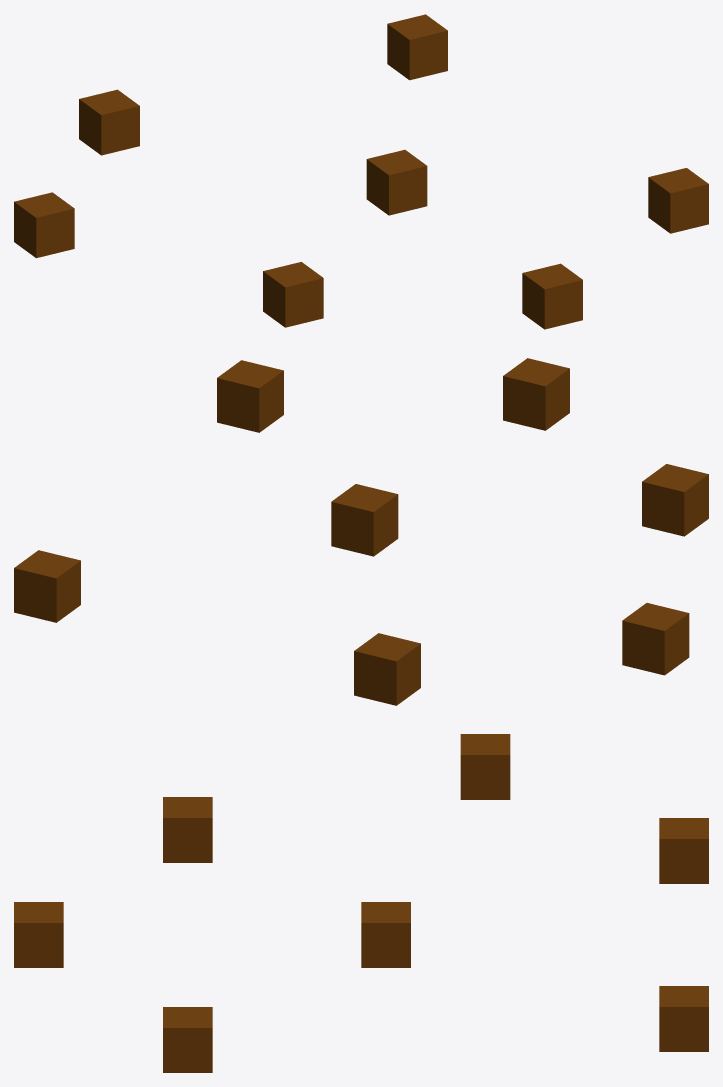
The model's file is potatoe_seed.obj.
3 views of the same model, one above another, from view 1: azimuth 30°, elevation 25°; view 2: azimuth 150°, elevation 25°; view 3: azimuth 270°, elevation 25° (orthographic). The views are drawn at different scales.
Size of the model in its own units: 1.4 by 0.1 by 1.4.
1 material, 1 textured.
